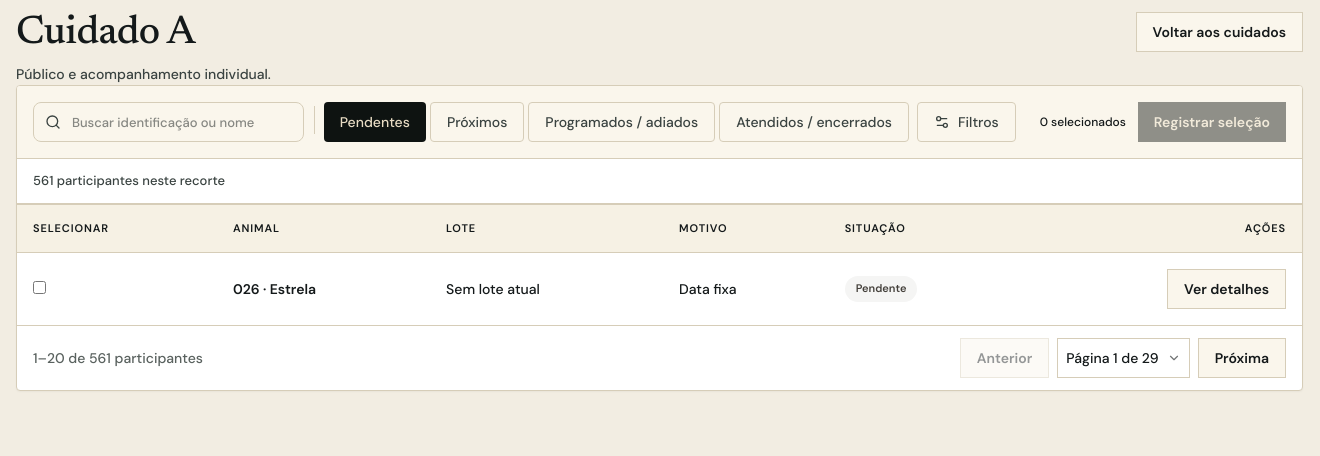
Scenario: participantes do cuidado › seleção é explícita e muda de contexto ao buscar
Expected: the text "561 participantes neste recorte" is shown, [17,159,1302,204]
Click the checkbox named "Selecionar 026": [40, 288] box [33,281,46,294]
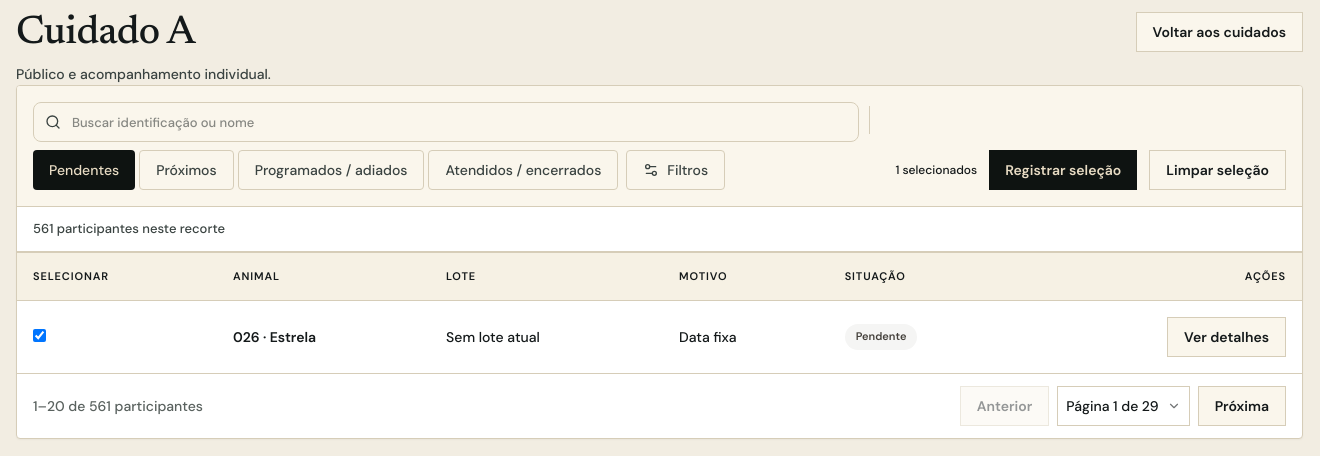
Expected: the text "1 selecionados" is shown, [895,161,977,179]
In the search field: [446, 122] box [33,102,859,142], type "Outro"
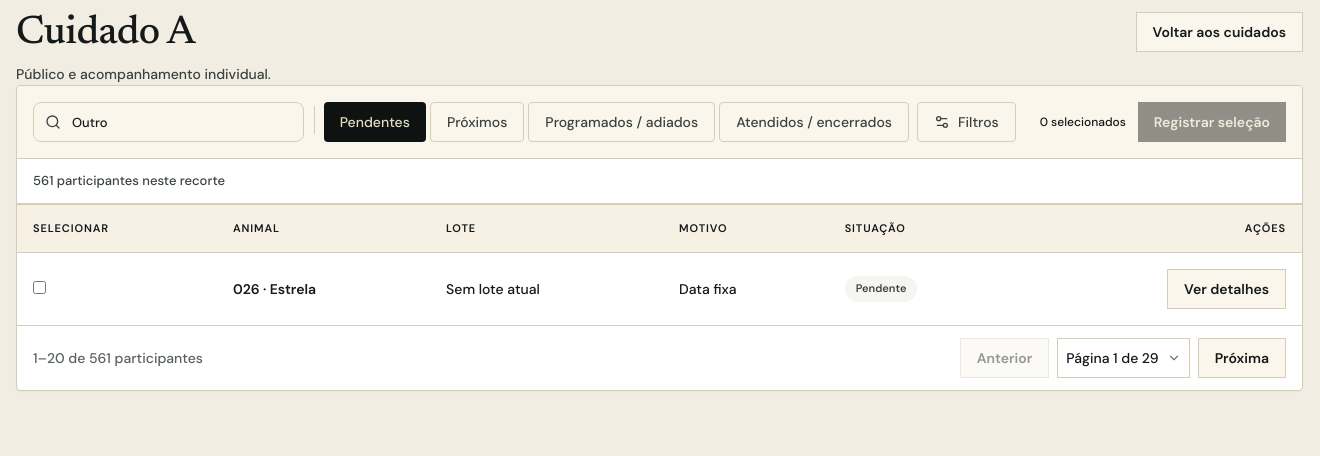
Expected: the text "0 selecionados" is shown, [1040,113,1126,131]
